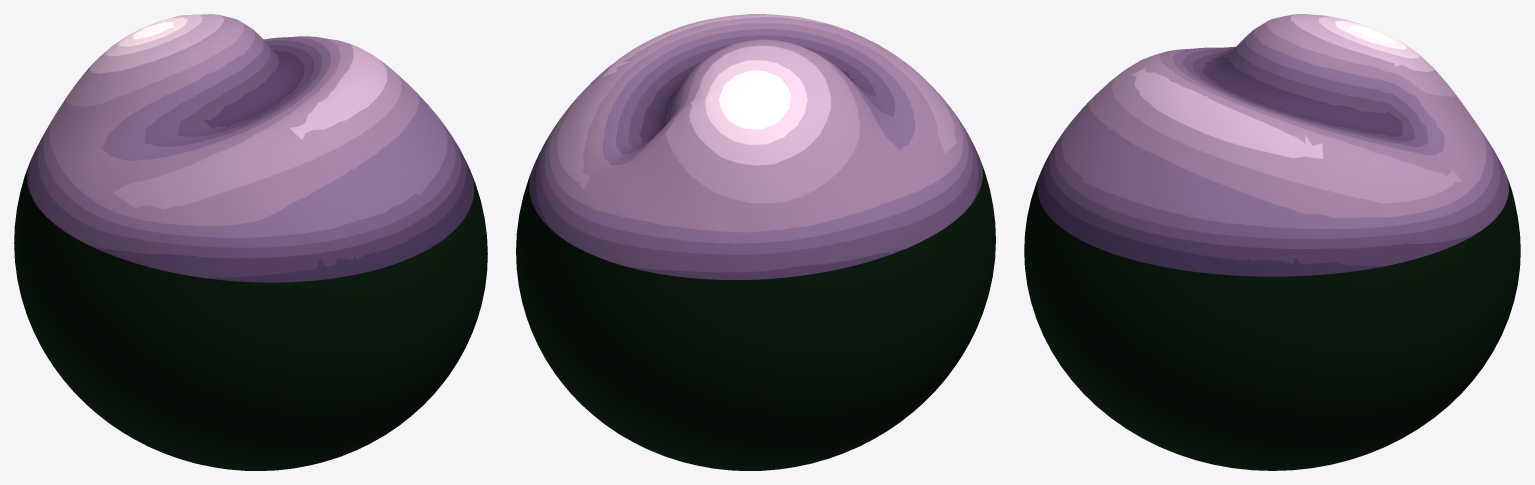
The model's file is orb_whorl.glb.
3 renders of one model, left to right at view 1: azimuth 30°, elevation 25°; view 2: azimuth 150°, elevation 25°; view 3: azimuth 270°, elevation 25°, orthographic.
Parts seen in each view (by area): view 1: orb_whorl; view 2: orb_whorl; view 3: orb_whorl.
Boxes of the visible parts, x1,y1,x2,y2 form: orb_whorl: (14,14,487,470); orb_whorl: (516,14,995,470); orb_whorl: (1024,14,1520,470).
Bounding box in the file's own units: 15 × 14.56 × 16.
